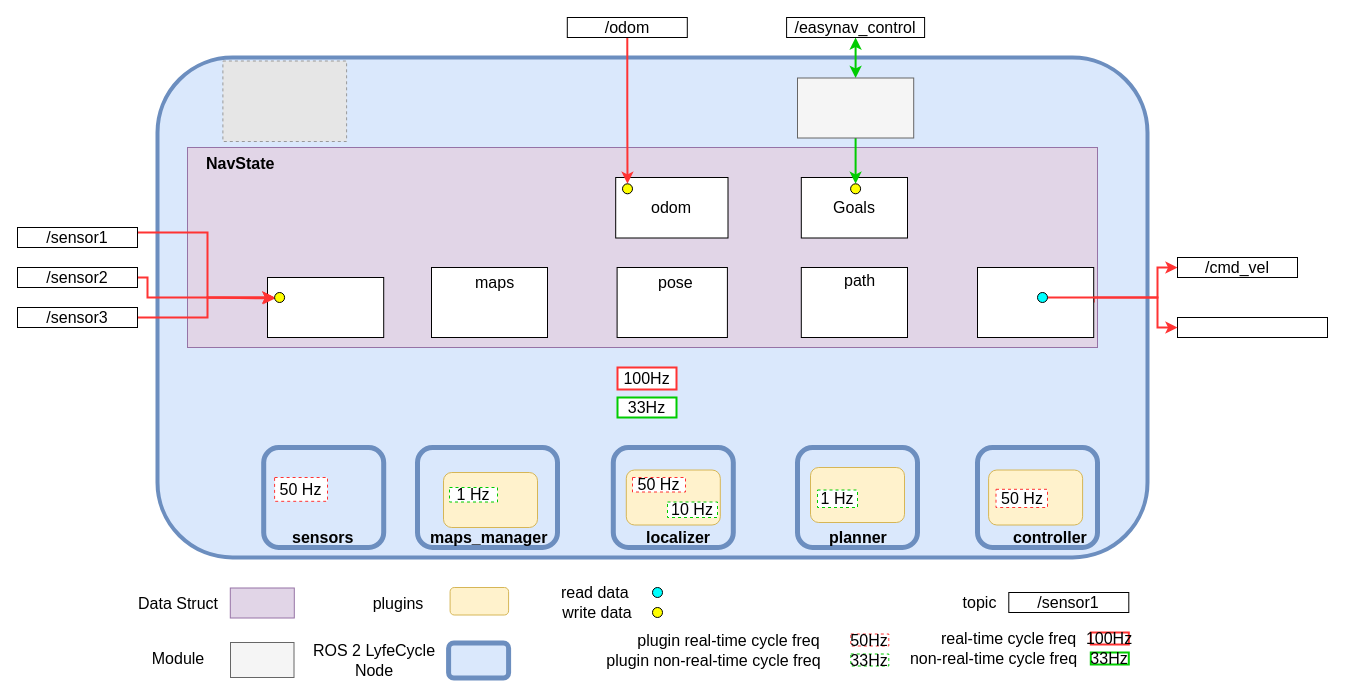
The diagram is 1345 pixels wide and 698 high, and some of its shapes have lost their labels. Grey dashed boxes stand in for pictures. The shapes that lost their labels are listed below. From the top down, each one's centre as x and y in pixels, then its label:
At [855,107]: "GoalManager".
At [325,307]: "perceptions".
At [1035,302]: "speed".
At [1252,327]: "/cmd_vel_stamped".
